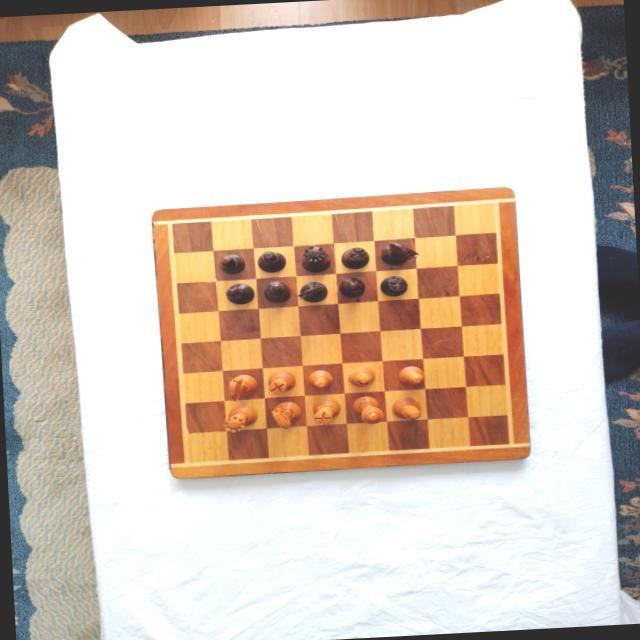black-bishop: (224, 281, 255, 305), (256, 249, 287, 273)
black-king: (262, 279, 291, 302)
black-knight: (380, 239, 420, 265), (296, 280, 329, 304)
black-pawn: (338, 275, 366, 298), (217, 253, 246, 275)
black-queen: (300, 243, 331, 273)
black-rook: (341, 246, 371, 269), (380, 273, 408, 296)
white-bishop: (390, 395, 422, 421), (348, 365, 376, 386)
white-king: (351, 394, 384, 425)
white-knight: (271, 400, 302, 430), (228, 372, 260, 400)
white-pawn: (306, 368, 334, 389), (398, 365, 425, 385)
white-queen: (221, 403, 258, 433)
white-rook: (312, 398, 340, 425), (267, 370, 297, 394)
